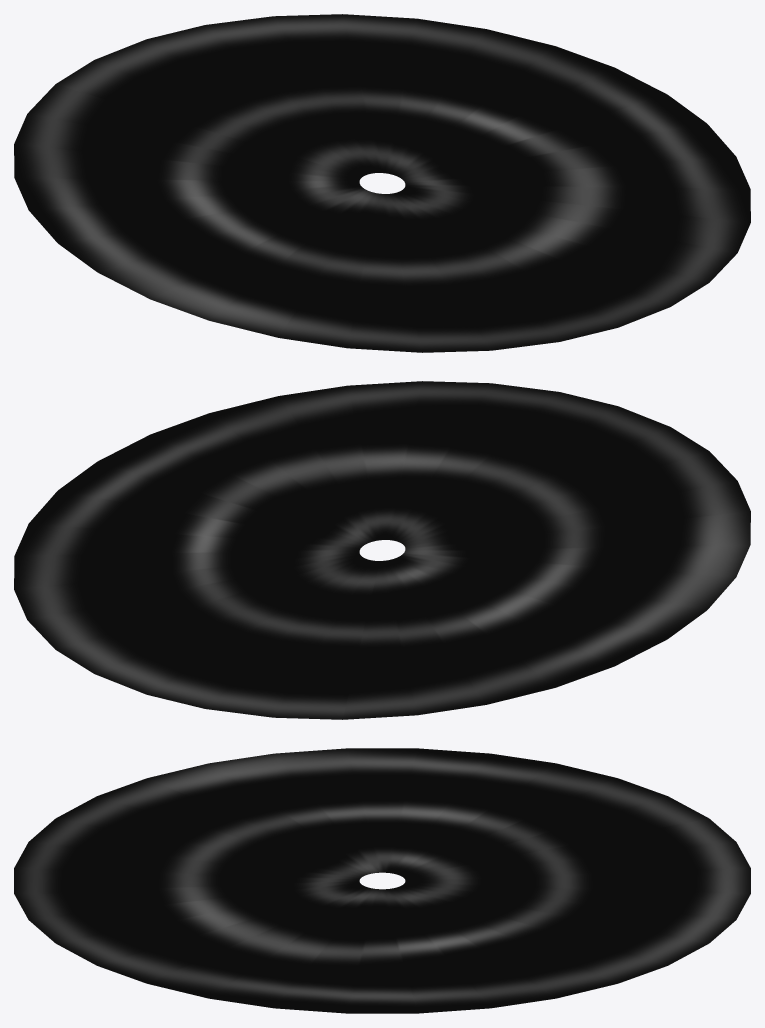
The model's file is WaterRipple.fbx.
The picture shows the model from 3 angles, top to bottom: view 1: azimuth 30°, elevation 25°; view 2: azimuth 150°, elevation 25°; view 3: azimuth 270°, elevation 25°; orthographic projection. The views are drawn at different scales.
Parts seen in each view (by area): view 1: poolcircle.002; view 2: poolcircle.002; view 3: poolcircle.002.
Part boxes in pixels (<box>): poolcircle.002: <box>14,14,750,352</box>; poolcircle.002: <box>14,381,750,719</box>; poolcircle.002: <box>14,748,750,1013</box>.
Size of the model in its own units: 100 by 2.75e-05 by 118.
